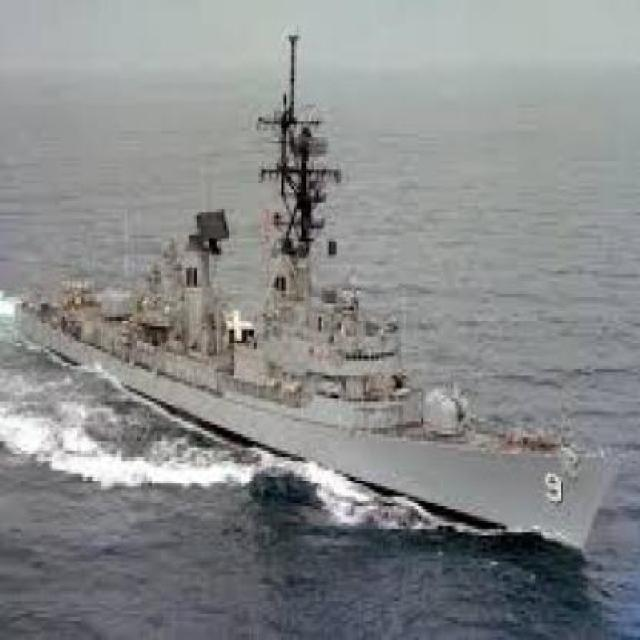warship2: (13, 70, 624, 567)
